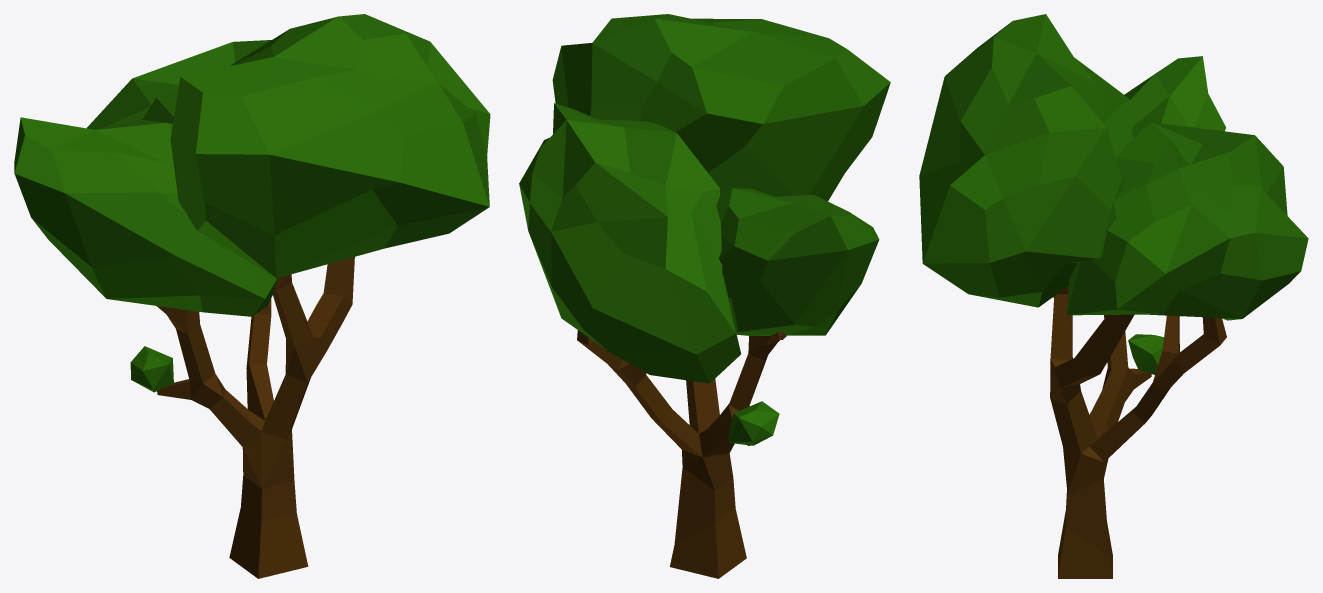
Rendered from OakTree3.fbx.
3 views of the same model, side by side, from view 1: azimuth 30°, elevation 25°; view 2: azimuth 150°, elevation 25°; view 3: azimuth 270°, elevation 25° (orthographic). The views are drawn at different scales.
Visible parts, largest first — view 1: Icosphere, Vert.003; view 2: Icosphere, Vert.003; view 3: Icosphere, Vert.003.
Part boxes in pixels (x1,y1,x2,y2): Icosphere: (14, 14, 490, 392); Vert.003: (157, 257, 354, 578); Icosphere: (519, 14, 890, 445); Vert.003: (577, 330, 786, 578); Icosphere: (919, 14, 1308, 374); Vert.003: (1050, 286, 1226, 578).
Bounding box in the file's own units: 7.52 × 9.51 × 6.57.
